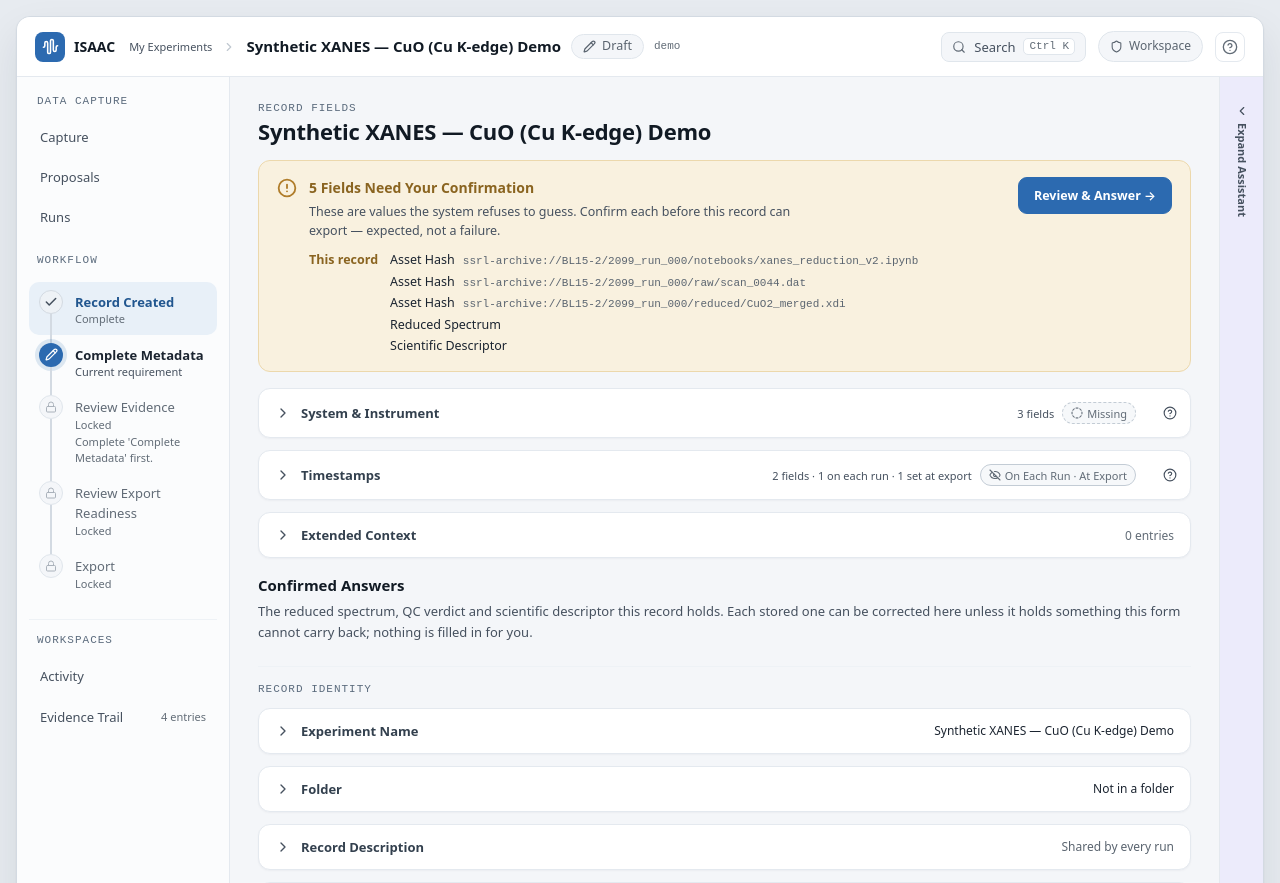
it: a control is offered only where a record-level route accepts a value › renders a row for every skeleton path, and an input for exactly one of them
Click the button "System & Instrument 3 fields Missing" at (370, 413), box [259,389,1152,437]
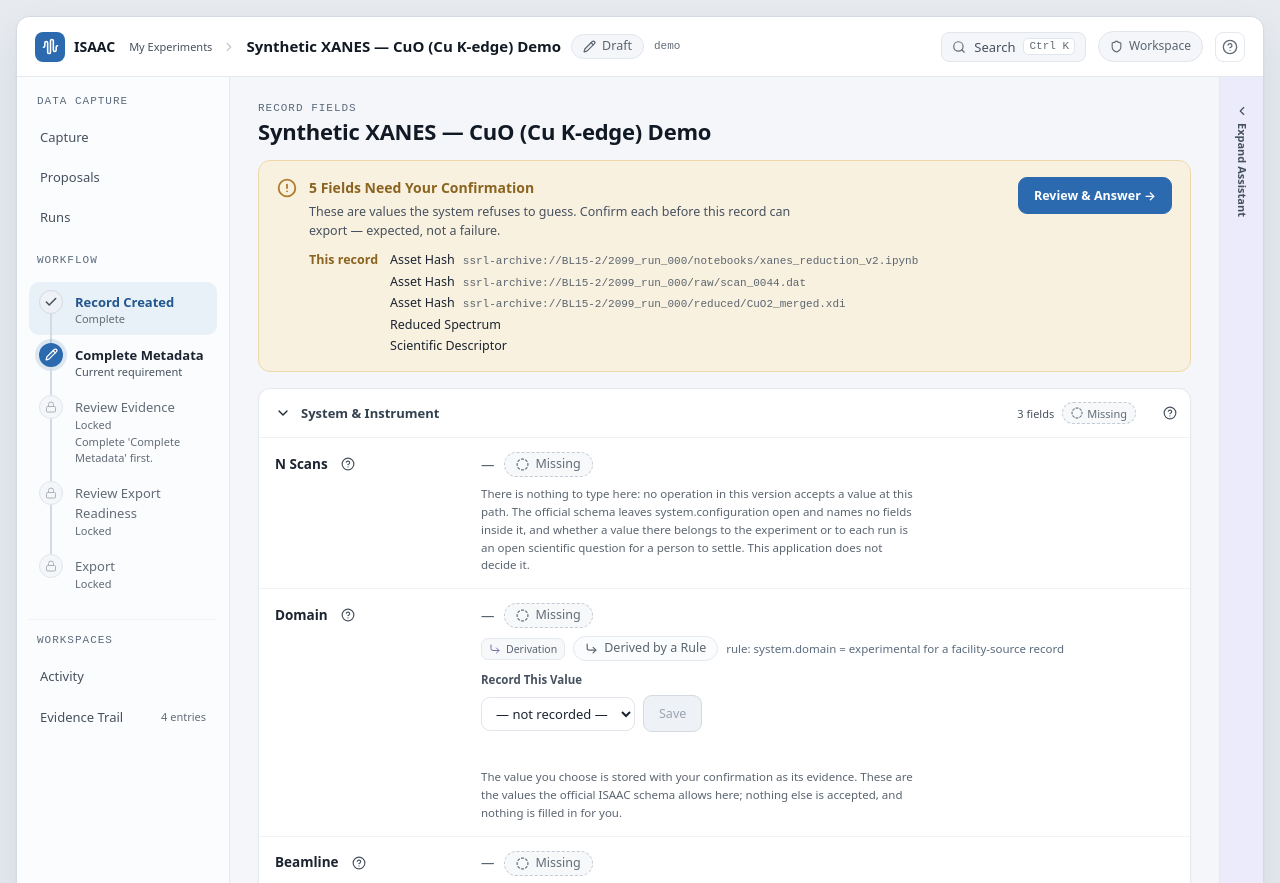
Check: the number of dropdowns is 1, box [481,696,635,730]
